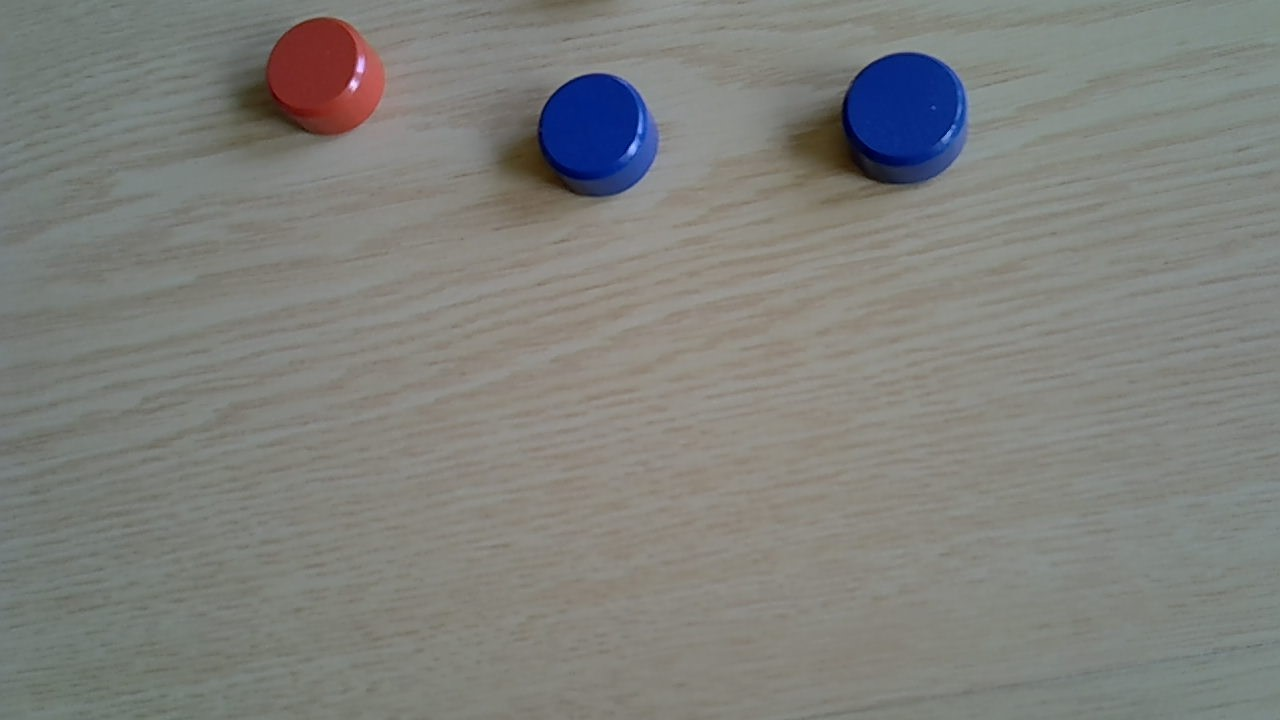WerkStueck: (840, 50, 972, 186), (264, 13, 387, 138), (538, 73, 661, 198)
